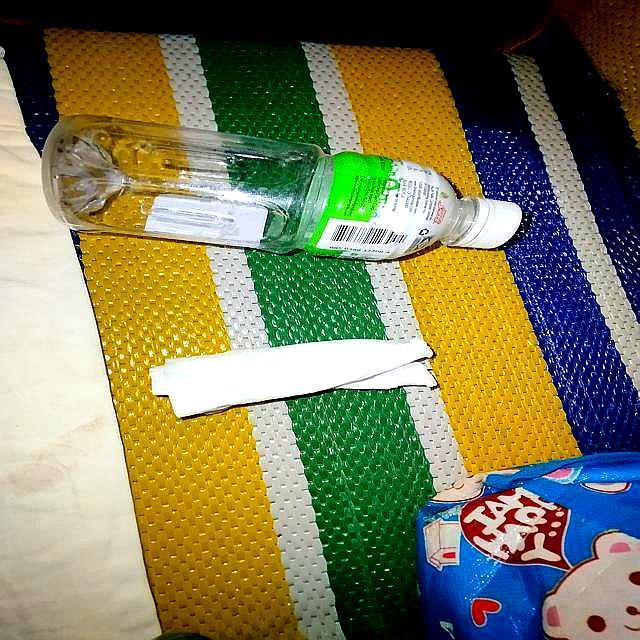Biodegradable: (151, 342, 435, 415)
Non-biodegradable: (43, 115, 524, 263)
